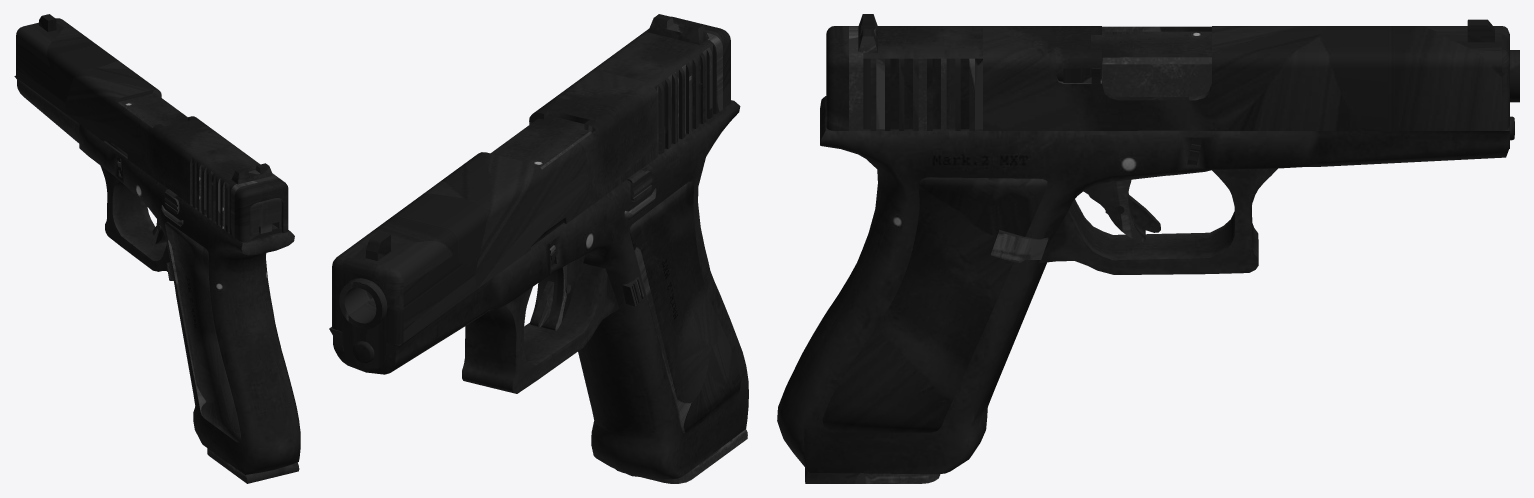
File: pistol.glb
The picture shows the model from 3 angles, left to right: view 1: azimuth 30°, elevation 25°; view 2: azimuth 150°, elevation 25°; view 3: azimuth 270°, elevation 25°; orthographic projection. The views are drawn at different scales.
Visible parts, largest first — view 1: Cube.005_9m1_0; view 2: Cube.005_9m1_0; view 3: Cube.005_9m1_0.
Boxes of the visible parts, x1,y1,x2,y2 form: Cube.005_9m1_0: (14, 14, 300, 483); Cube.005_9m1_0: (329, 14, 748, 483); Cube.005_9m1_0: (777, 14, 1519, 483).
Bounding box in the file's own units: 0.0445 × 0.2105 × 0.32.
Materials: 1 (1 with a texture image).
